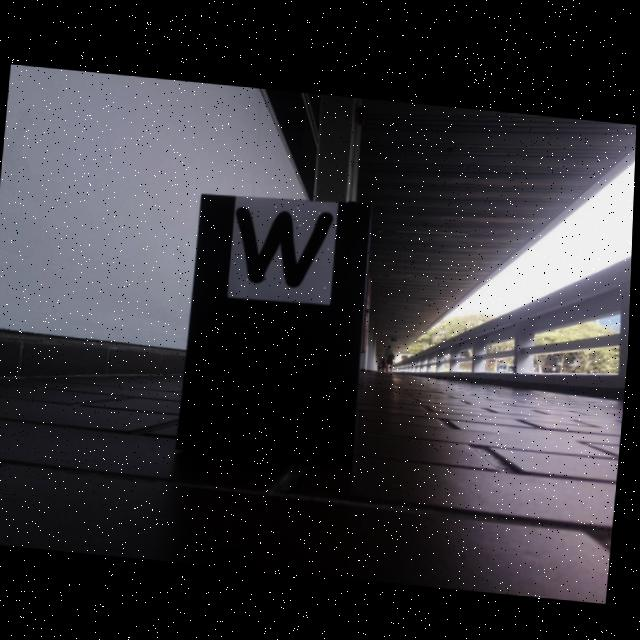W: (237, 203, 337, 287)
